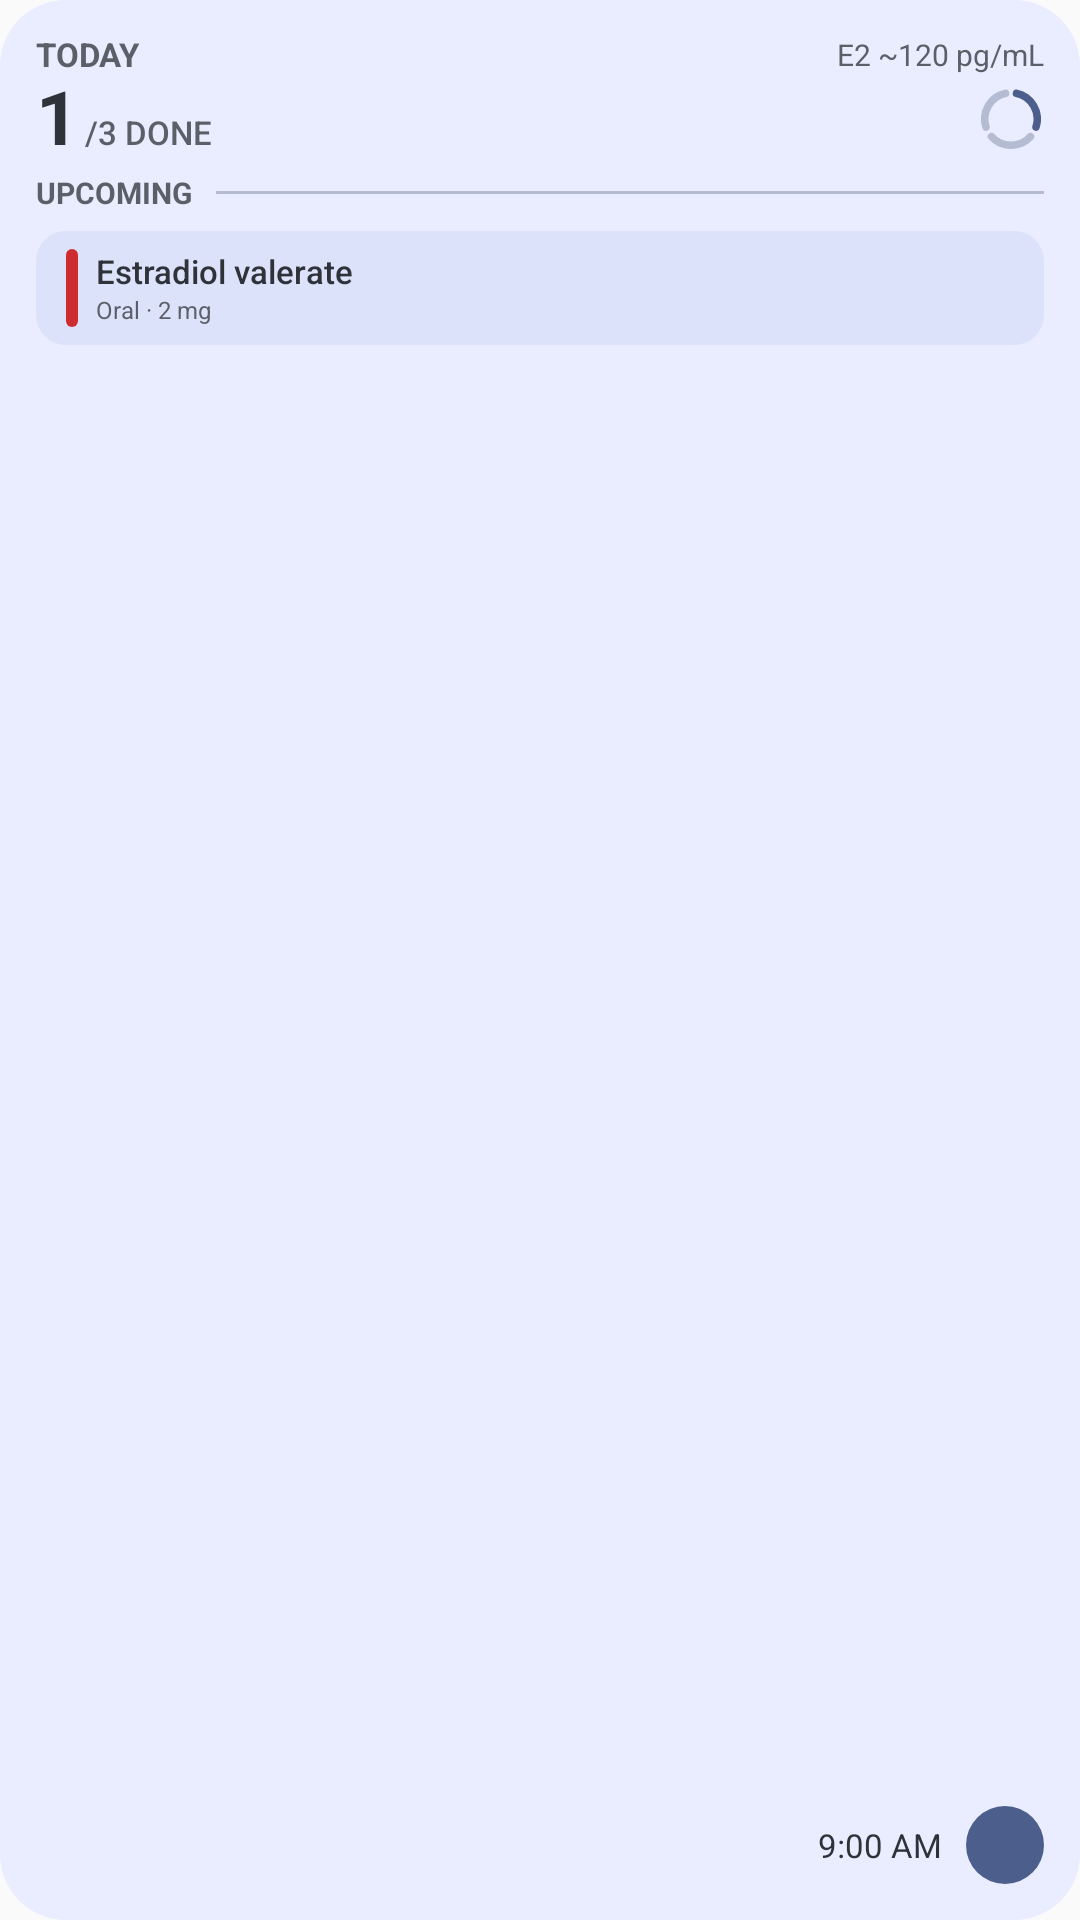

Locate icon controls on the screen. Image size 1080 x 1920, boxes as (x1, y1, x2, y2).
widget progress ring: (981, 89, 1041, 149)
